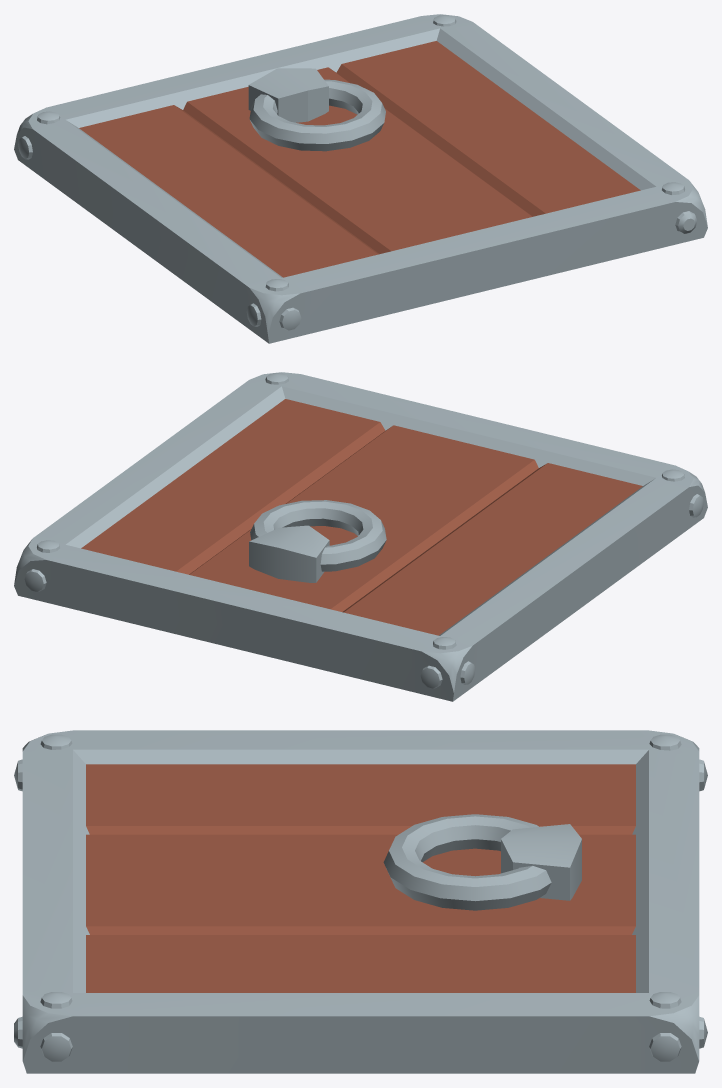
The model's file is Tahtalar2.fbx.
The picture shows the model from 3 angles, top to bottom: view 1: azimuth 30°, elevation 25°; view 2: azimuth 150°, elevation 25°; view 3: azimuth 270°, elevation 25°; orthographic projection. The views are drawn at different scales.
Visible parts, largest first — view 1: trapdoor; view 2: trapdoor; view 3: trapdoor.
Boxes of the visible parts, bbox=[...] form: trapdoor: bbox=[14, 14, 707, 343]; trapdoor: bbox=[14, 372, 707, 701]; trapdoor: bbox=[14, 730, 707, 1073].
Bounding box in the file's own units: 194 × 28.75 × 194.
